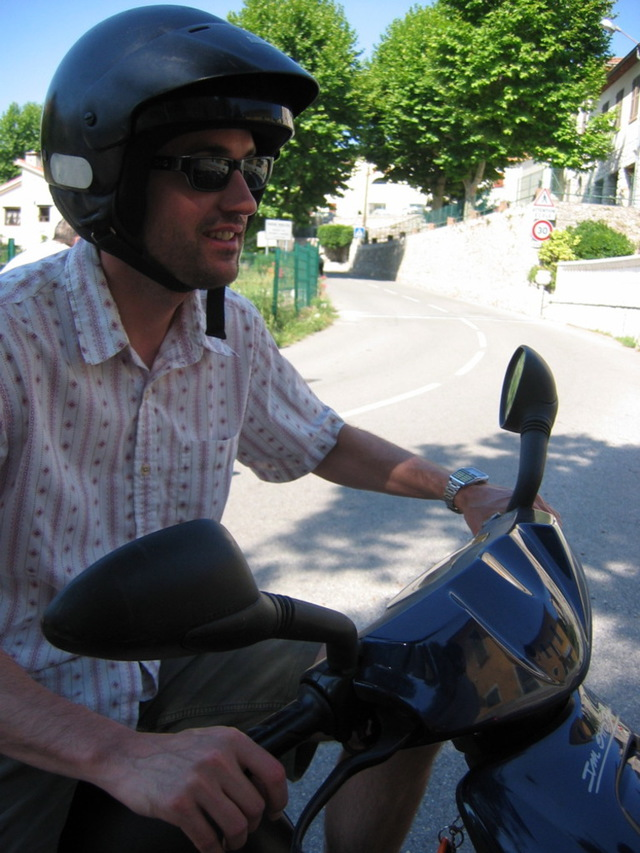helmet: (48, 11, 329, 243)
